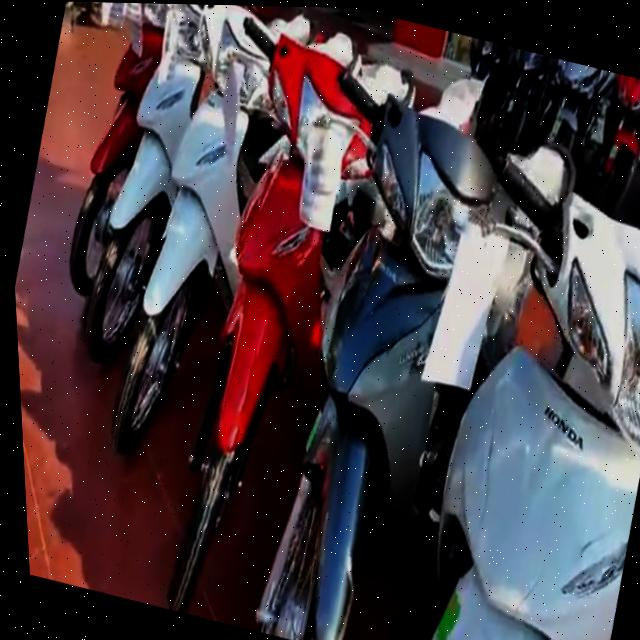motorcycle: (216, 71, 538, 640), (125, 26, 397, 635), (0, 0, 302, 537), (390, 162, 640, 640)
